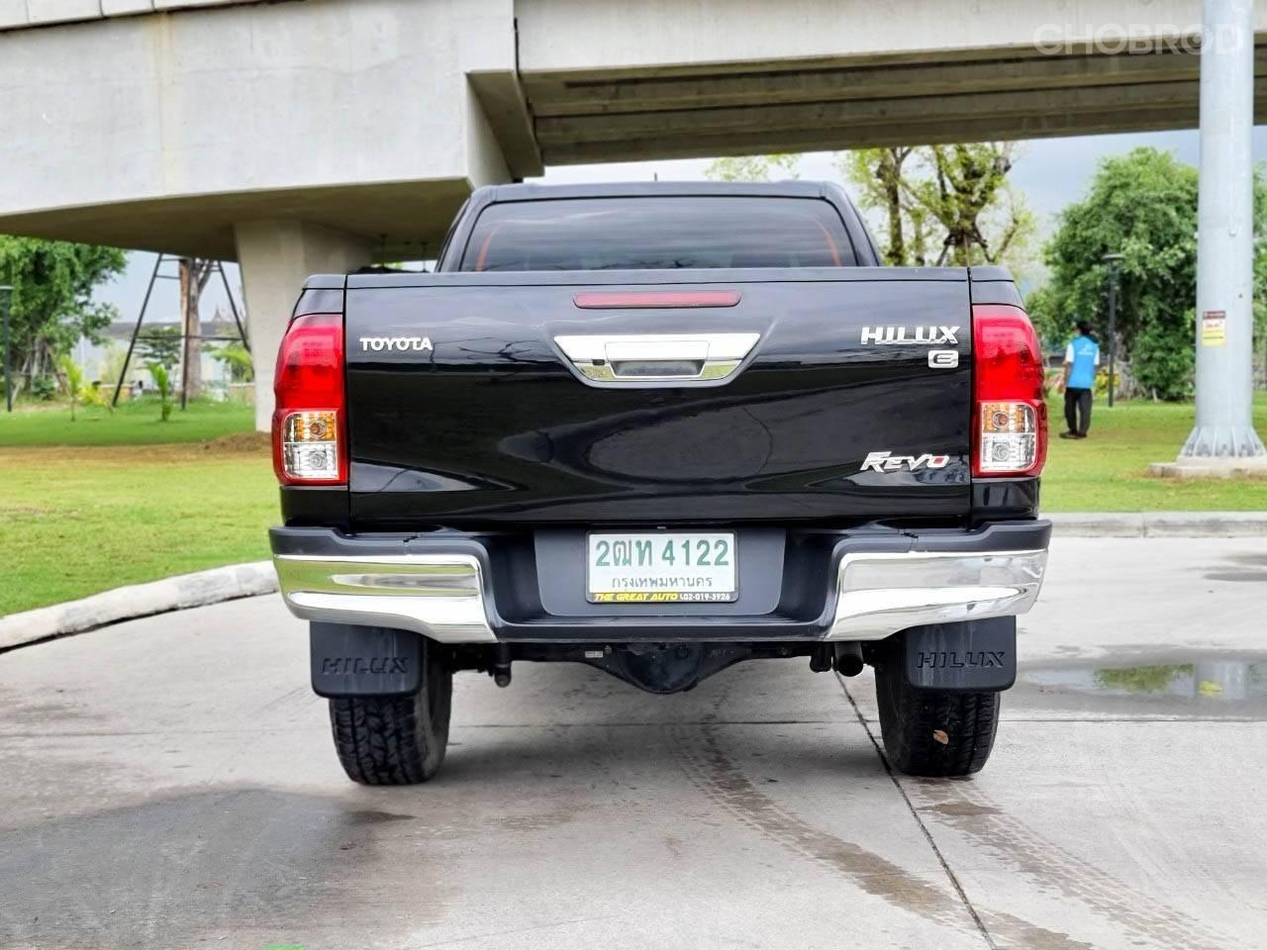license-plate: (579, 520, 745, 609)
